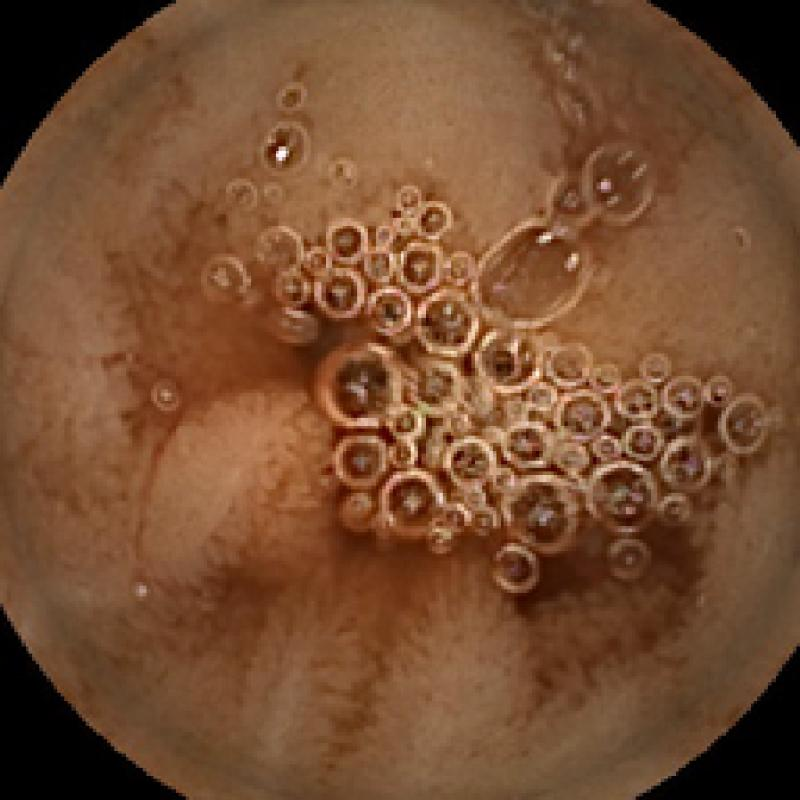bleeding: (322, 397, 440, 532)
